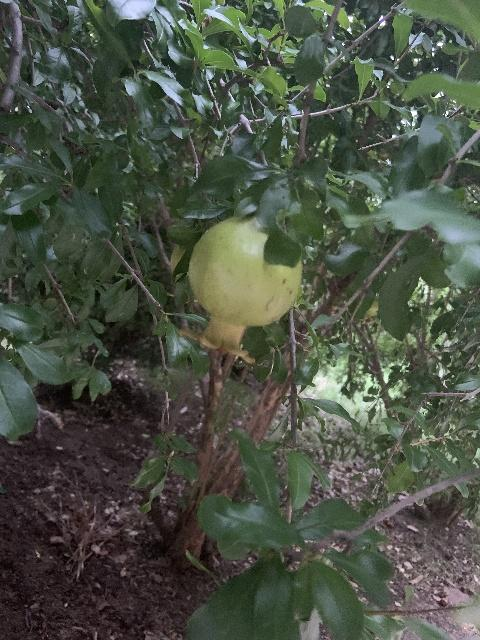mid-growth: (180, 214, 302, 366)
